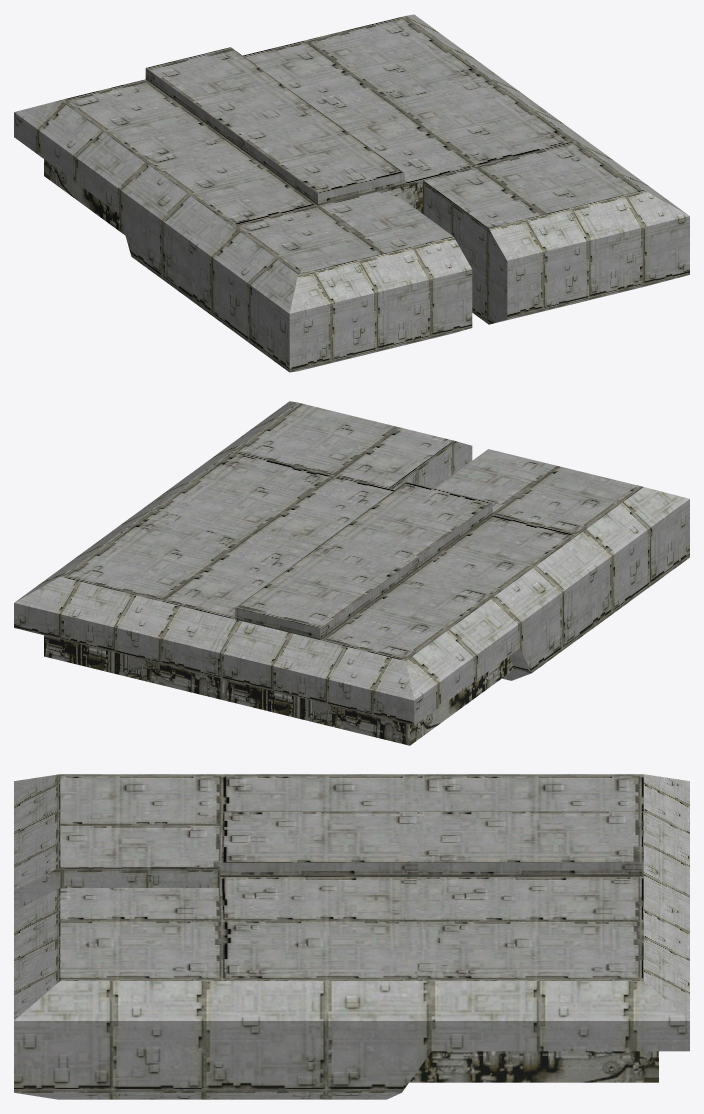
File: ins_all_def_turret_sm_s01_turret_l1.fbx
3 renders of one model, top to bottom at view 1: azimuth 30°, elevation 25°; view 2: azimuth 150°, elevation 25°; view 3: azimuth 270°, elevation 25°, orthographic. The views are drawn at different scales.
Visible parts, largest first — view 1: mesh_node; view 2: mesh_node; view 3: mesh_node.
Boxes of the visible parts, left/top/right/bottom form: mesh_node: left=14, top=14, right=689, bottom=372; mesh_node: left=14, top=401, right=689, bottom=745; mesh_node: left=14, top=774, right=689, bottom=1099.
Bounding box in the file's own units: 1.37 × 0.3539 × 1.64.
